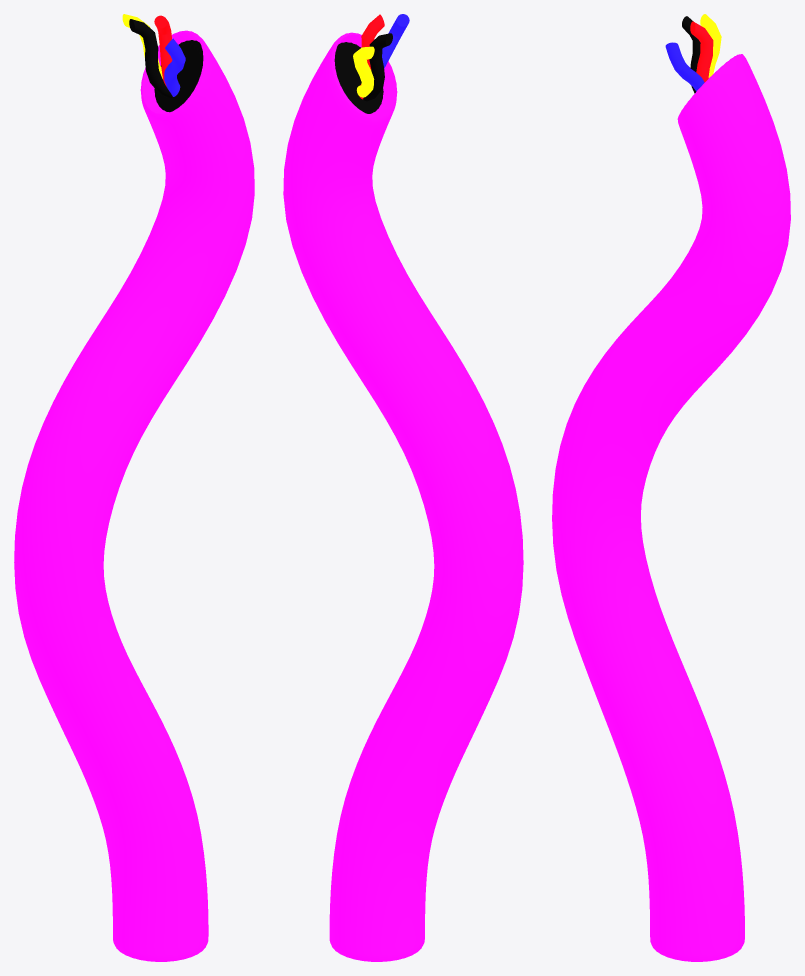
Rendered from wire .fbx.
3 views of the same model, side by side, from view 1: azimuth 30°, elevation 25°; view 2: azimuth 150°, elevation 25°; view 3: azimuth 330°, elevation 25° (orthographic).
Parts seen in each view (by area): view 1: Circle, Circle.004, Circle.002, Circle.003; view 2: Circle, Circle.004, Circle.005, Circle.002; view 3: Circle, Circle.003, Circle.002, Circle.005.
Part boxes in pixels (x1,y1,x2,y2): Circle: (14,30,254,961); Circle.004: (129,19,172,98); Circle.002: (164,38,185,96); Circle.003: (154,15,172,86); Circle: (283,32,523,961); Circle.004: (363,33,392,101); Circle.005: (353,46,374,97); Circle.002: (382,14,409,68); Circle: (552,54,790,961); Circle.003: (690,21,713,82); Circle.002: (665,42,704,91); Circle.005: (700,14,721,77).
Bounding box in the file's own units: 544 × 2131 × 200.
